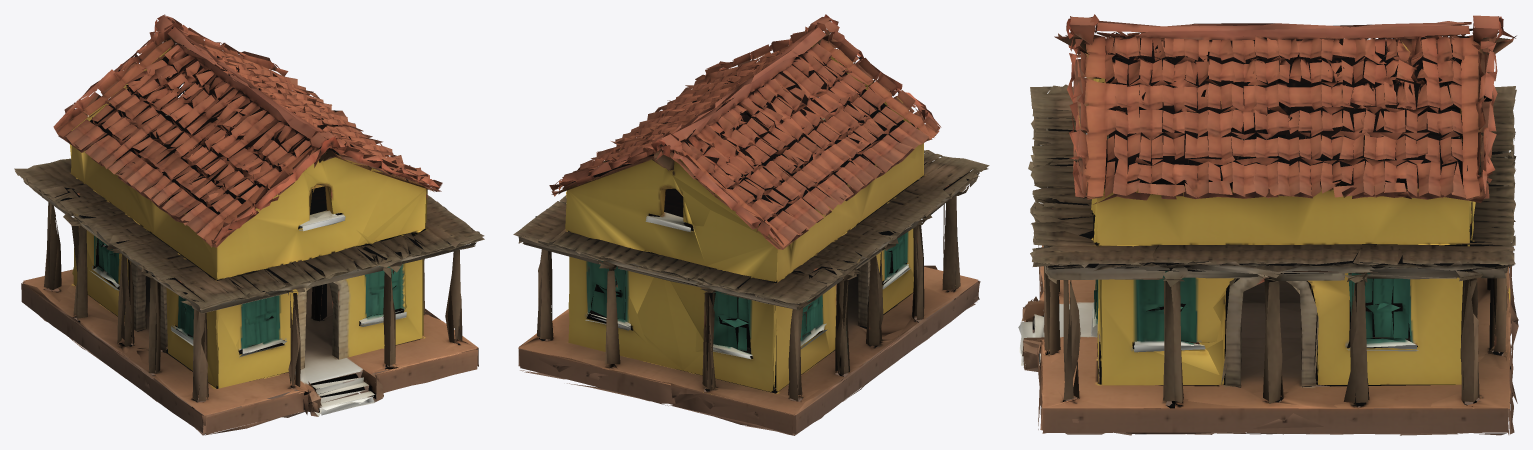
The model's file is house_tropics.glb.
3 renders of one model, left to right at view 1: azimuth 30°, elevation 25°; view 2: azimuth 150°, elevation 25°; view 3: azimuth 270°, elevation 25°, orthographic. The views are drawn at different scales.
Parts seen in each view (by area): view 1: Mesh_0; view 2: Mesh_0; view 3: Mesh_0.
Boxes of the visible parts, x1,y1,x2,y2 form: Mesh_0: [14, 14, 484, 435]; Mesh_0: [513, 14, 989, 435]; Mesh_0: [1018, 14, 1518, 435].
Size of the model in its own units: 11.7 by 10.17 by 13.53.
1 material, 1 textured.
